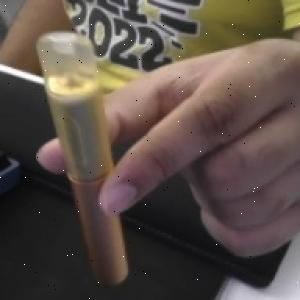Golden-E-Ciggirate: (30, 24, 131, 288)
